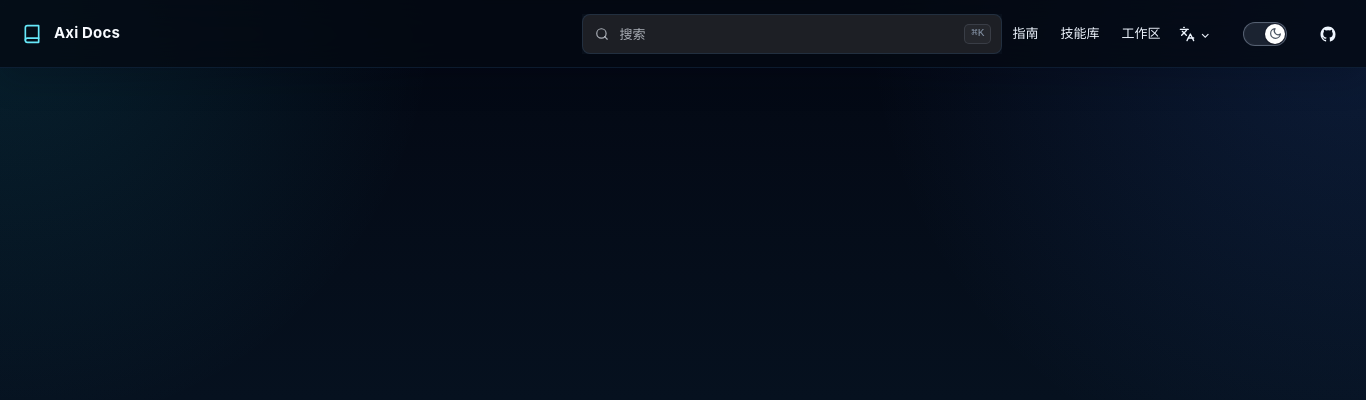
Test: Header › opens a locale menu with locale-prefixed guide routes
The image size is (1366, 400).
Step 1. Click the button named "选择语言" → [1194, 34], box [1170,18,1218,50]
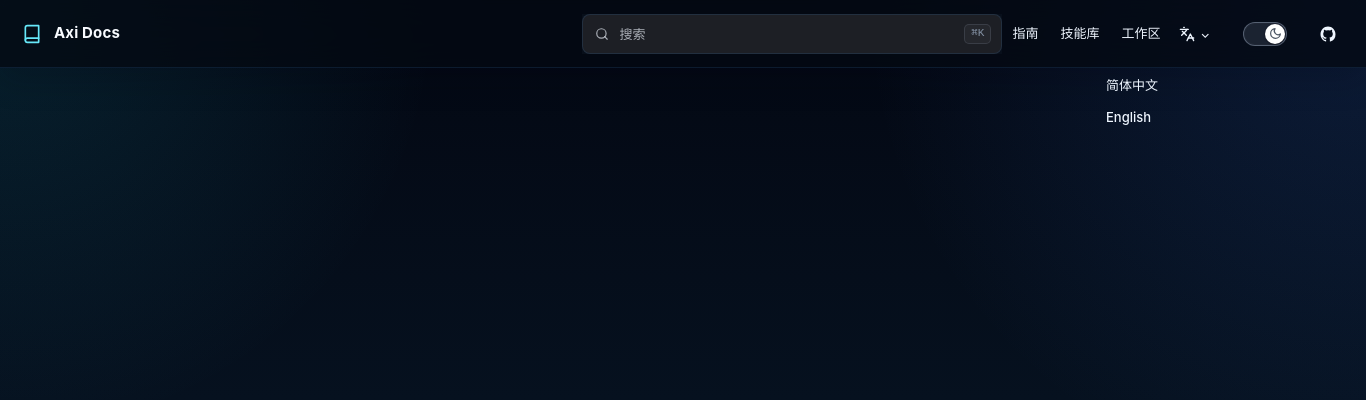
Check: the menu is shown, box [1106,77,1158,125]
